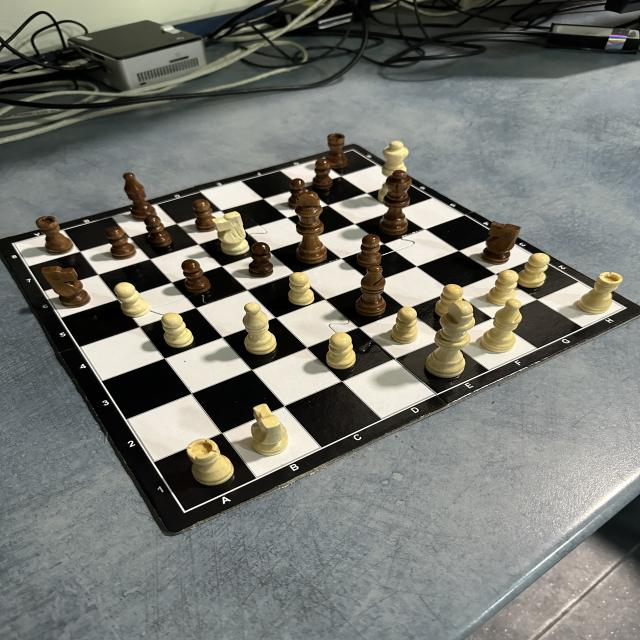Black-Bishop: (354, 265, 387, 316), (124, 171, 157, 220)
Black-King: (294, 193, 327, 264)
Black-Knight: (40, 264, 90, 306), (481, 221, 521, 263)
Black-Pawn: (181, 258, 209, 294), (107, 227, 136, 259), (146, 216, 172, 248), (249, 242, 272, 278), (193, 198, 217, 232), (356, 236, 382, 266), (287, 178, 309, 208), (312, 158, 333, 188)
Black-Queen: (378, 173, 416, 235)
Black-Rook: (36, 215, 74, 255), (325, 134, 347, 168)
White-Bishop: (481, 299, 522, 353), (242, 301, 277, 356)
White-King: (426, 300, 475, 376)
White-Knight: (251, 403, 289, 457), (214, 212, 250, 256)
White-Pawn: (432, 284, 470, 318), (326, 331, 356, 370), (518, 251, 550, 287), (115, 282, 148, 316), (162, 312, 193, 348), (392, 307, 418, 344), (491, 270, 518, 305), (288, 274, 314, 306)
White-Queen: (376, 140, 410, 203)
White-Rook: (188, 438, 233, 490), (577, 270, 622, 314)
